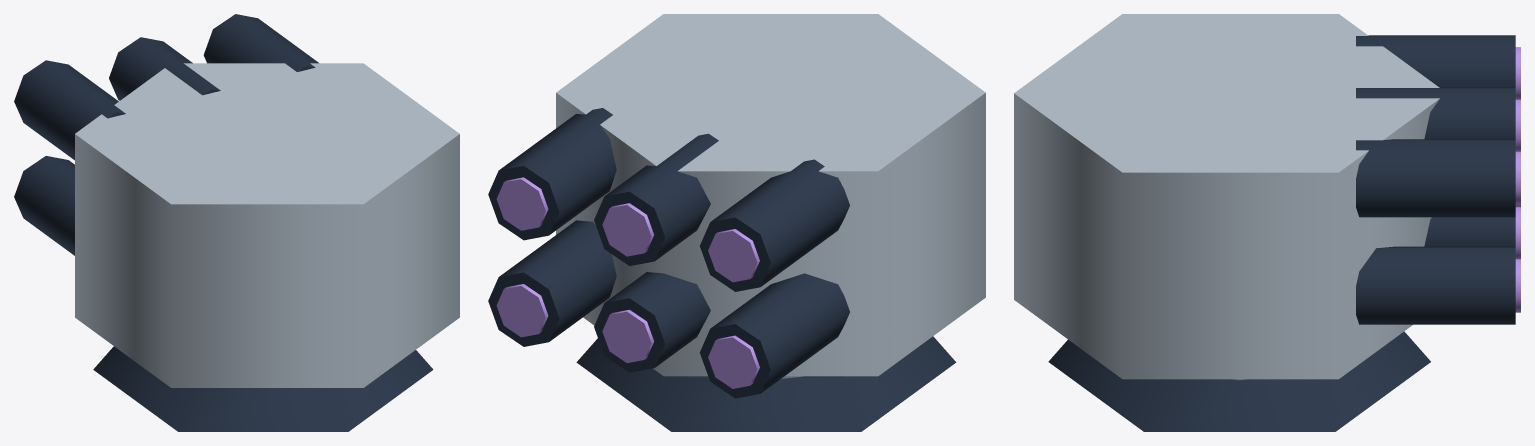
The model's file is cryogenic_hydrocarbon--missile_pod.glb.
The picture shows the model from 3 angles, left to right: view 1: azimuth 30°, elevation 25°; view 2: azimuth 150°, elevation 25°; view 3: azimuth 270°, elevation 25°; orthographic projection. The views are drawn at different scales.
Parts seen in each view (by area): view 1: faceted_module_housing_3, mount_adapter_1, launch_tube_6, launch_tube_4, launch_tube_14, launch_tube_10; view 2: faceted_module_housing_3, mount_adapter_1, launch_tube_6, launch_tube_4, launch_tube_14, launch_tube_12, launch_tube_10, launch_tube_8, launcher_cap_11, launcher_cap_15, launcher_cap_13, launcher_cap_7 (+2 smaller); view 3: faceted_module_housing_3, mount_adapter_1, launch_tube_14, launch_tube_12, launch_tube_6, launch_tube_10, launch_tube_8.
Boxes of the visible parts, bbox=[...] form: faceted_module_housing_3: bbox=[75, 63, 459, 387]; mount_adapter_1: bbox=[93, 346, 433, 431]; launch_tube_6: bbox=[14, 60, 125, 160]; launch_tube_4: bbox=[14, 156, 74, 255]; launch_tube_14: bbox=[203, 14, 318, 71]; launch_tube_10: bbox=[109, 37, 220, 100]; faceted_module_housing_3: bbox=[556, 14, 985, 376]; mount_adapter_1: bbox=[576, 336, 956, 431]; launch_tube_6: bbox=[700, 159, 849, 291]; launch_tube_4: bbox=[699, 273, 849, 398]; launch_tube_14: bbox=[488, 108, 616, 240]; launch_tube_12: bbox=[488, 220, 616, 346]; launch_tube_10: bbox=[594, 133, 718, 266]; launch_tube_8: bbox=[594, 272, 710, 372]; launcher_cap_11: bbox=[602, 203, 653, 256]; launcher_cap_15: bbox=[496, 177, 548, 230]; launcher_cap_13: bbox=[496, 284, 548, 337]; launcher_cap_7: bbox=[708, 229, 759, 282]; faceted_module_housing_3: bbox=[1014, 14, 1439, 379]; mount_adapter_1: bbox=[1048, 331, 1430, 431]; launch_tube_14: bbox=[1356, 139, 1515, 217]; launch_tube_12: bbox=[1356, 246, 1515, 324]; launch_tube_6: bbox=[1356, 35, 1515, 87]; launch_tube_10: bbox=[1356, 87, 1515, 139]; launch_tube_8: bbox=[1424, 217, 1515, 246].
Bounding box in the file's own units: 19.75 × 15.86 × 26.68.
